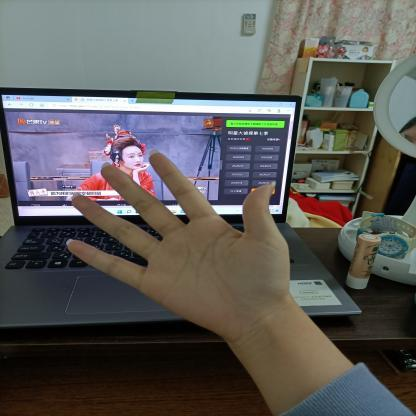bare_hand: (56, 149, 306, 337)
